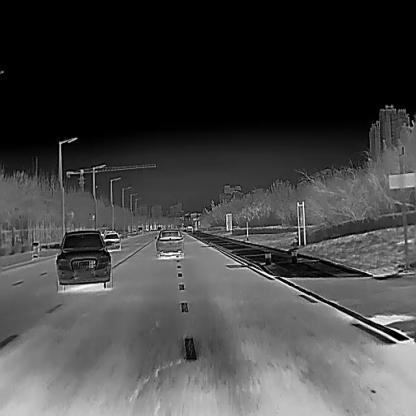car: (56, 230, 113, 292), (156, 229, 185, 259), (102, 232, 121, 252), (185, 225, 193, 232)
